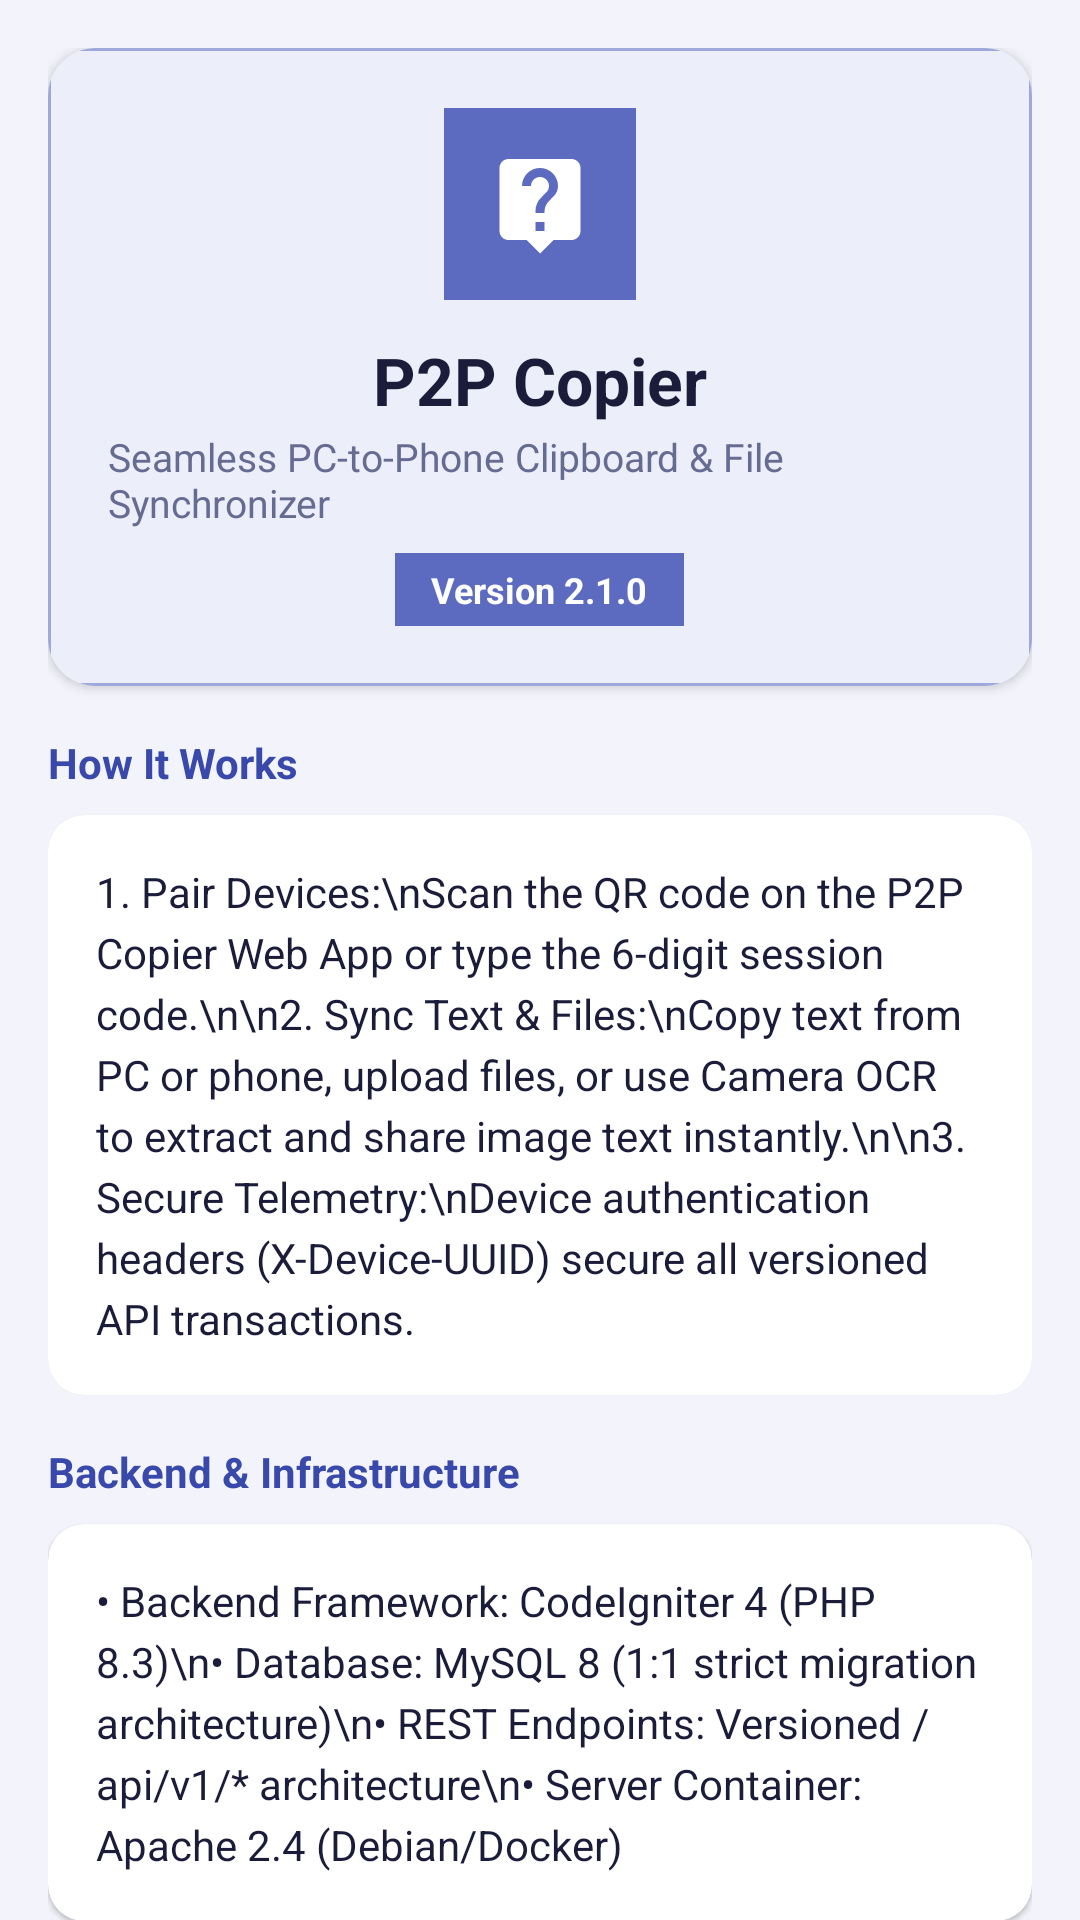

Where to tap for icons on this 1080 x 1920 app screen, as [x,y]:
help: [540,204]
